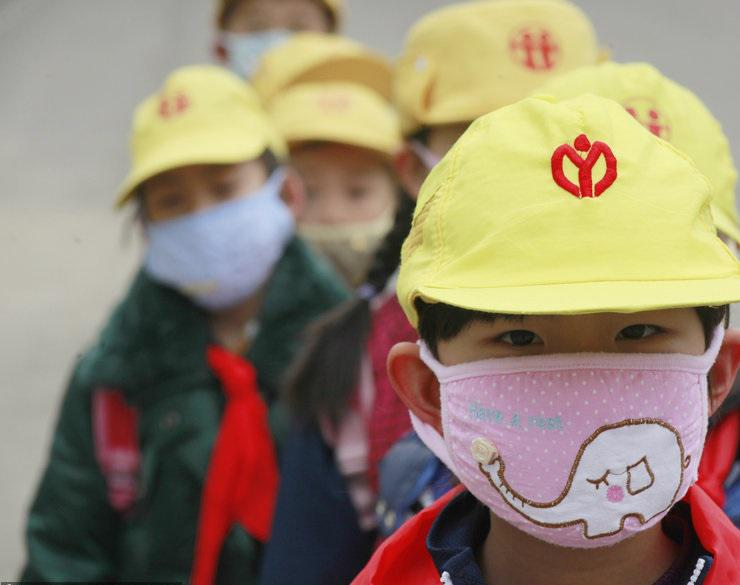OK: (447, 285, 703, 541), (140, 165, 275, 300), (219, 1, 320, 90)
WRONG: (284, 162, 394, 273)
